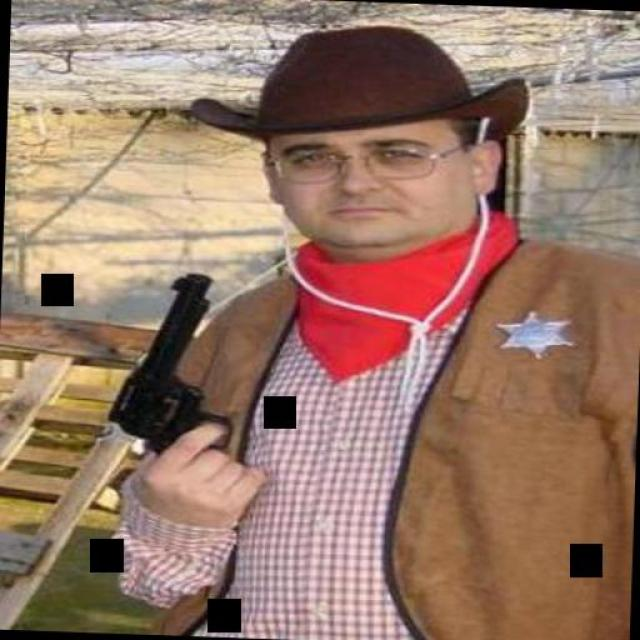gun: (102, 264, 242, 456)
